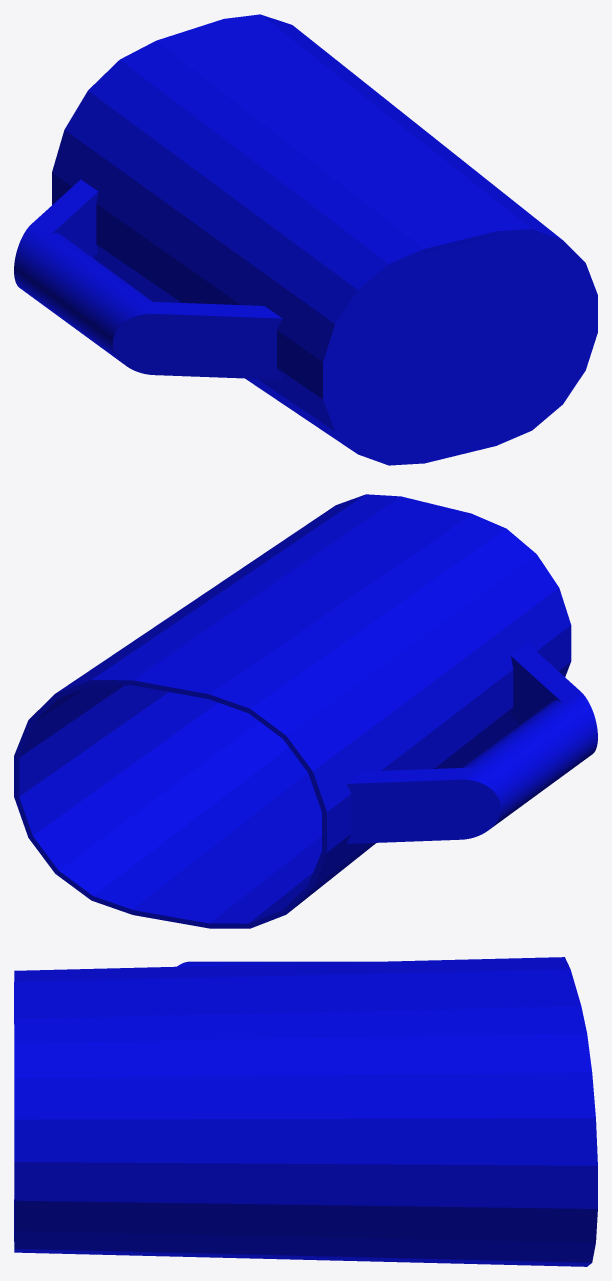
Rendered from WaterCup.fbx.
3 renders of one model, top to bottom at view 1: azimuth 30°, elevation 25°; view 2: azimuth 150°, elevation 25°; view 3: azimuth 270°, elevation 25°, orthographic. The views are drawn at different scales.
Parts seen in each view (by area): view 1: Blank_Jug; view 2: Blank_Jug; view 3: Blank_Jug.
Part boxes in pixels (x1,y1,x2,y2): Blank_Jug: (14,14,597,465); Blank_Jug: (14,494,597,928); Blank_Jug: (14,957,597,1266).
Size of the model in its own units: 1663 by 937 by 1997.
